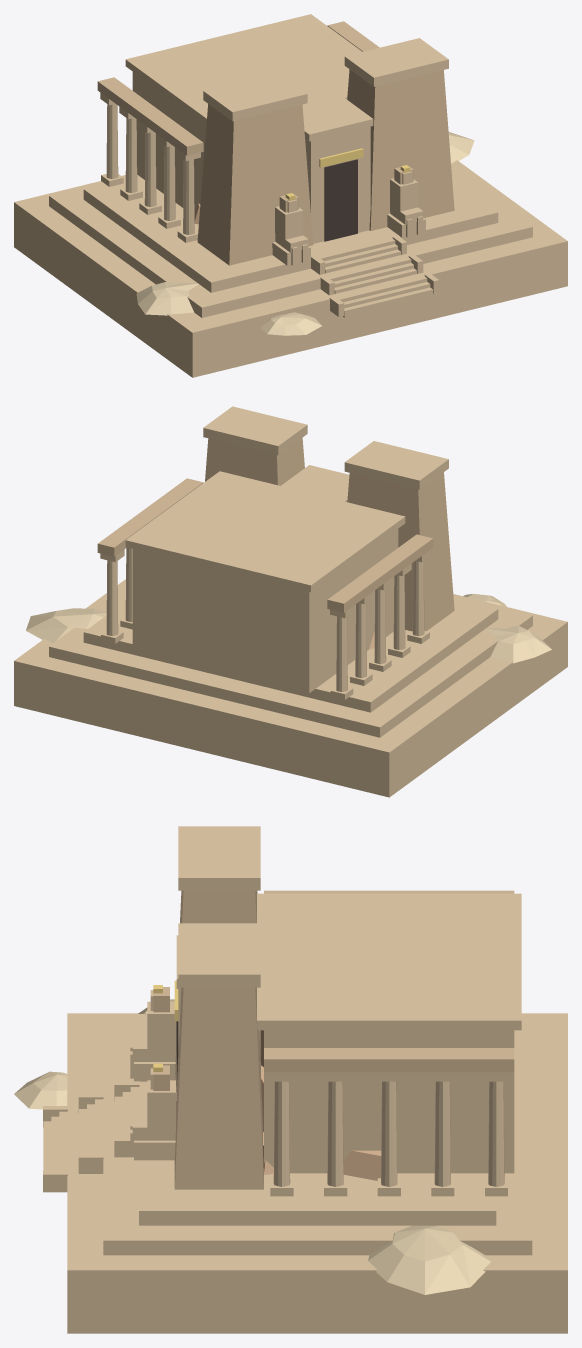
Rendered from desertkit.glb.
3 renders of one model, top to bottom at view 1: azimuth 30°, elevation 25°; view 2: azimuth 150°, elevation 25°; view 3: azimuth 270°, elevation 25°, orthographic. The views are drawn at different scales.
Visible parts, largest first — view 1: Temple; view 2: Temple; view 3: Temple, Mesa.
Boxes of the visible parts, bbox=[...] form: Temple: bbox=[14, 14, 567, 377]; Temple: bbox=[14, 406, 567, 797]; Temple: bbox=[14, 826, 567, 1333]; Mesa: bbox=[260, 1030, 381, 1180].
Bounding box in the file's own units: 38.52 × 18.8 × 30.99.
